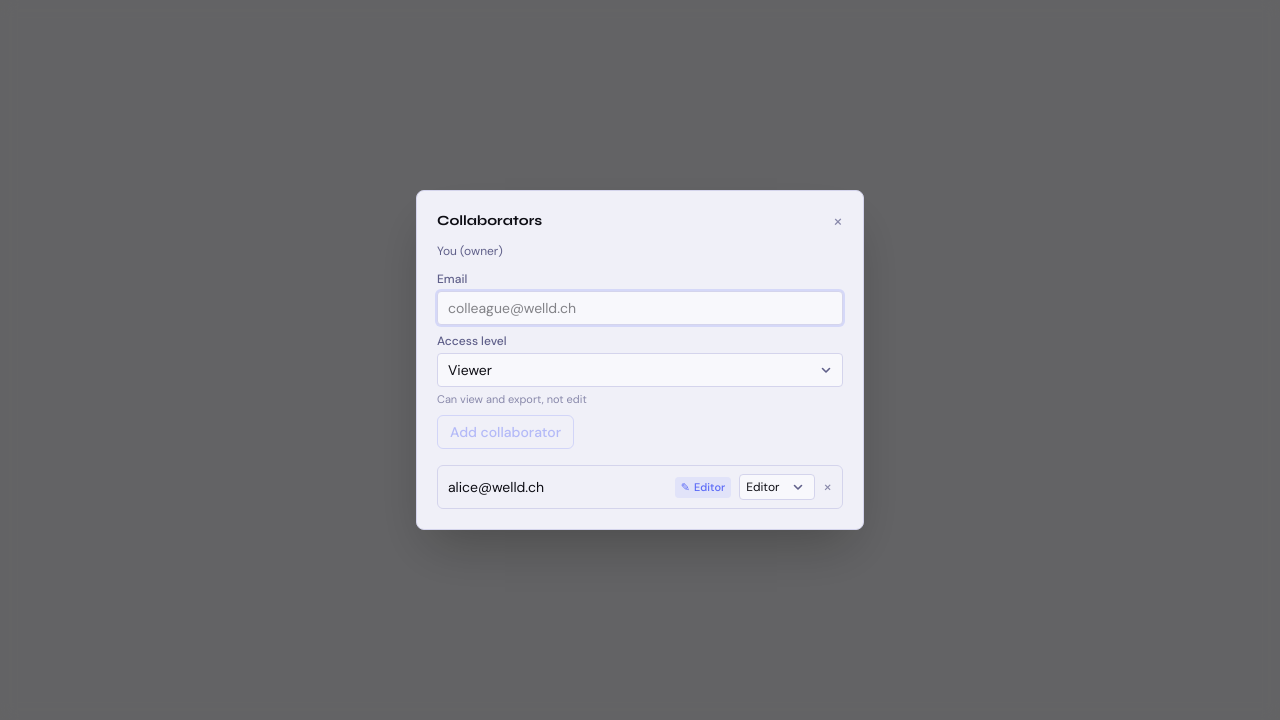
Test: CollaboratorsDialog — owner mode (T20, specs/013) › a11y — default focus + Tab trap + Escape › Escape closes only the nested Remove-confirm layer first, leaving the dialog open
The image size is (1280, 720).
Expected: the text "alice@welld.ch" is shown, 448,478 -> 544,496
Click the button "×" in the row of "alice@welld.ch".
click(828, 487)  # box 823,479 -> 832,495
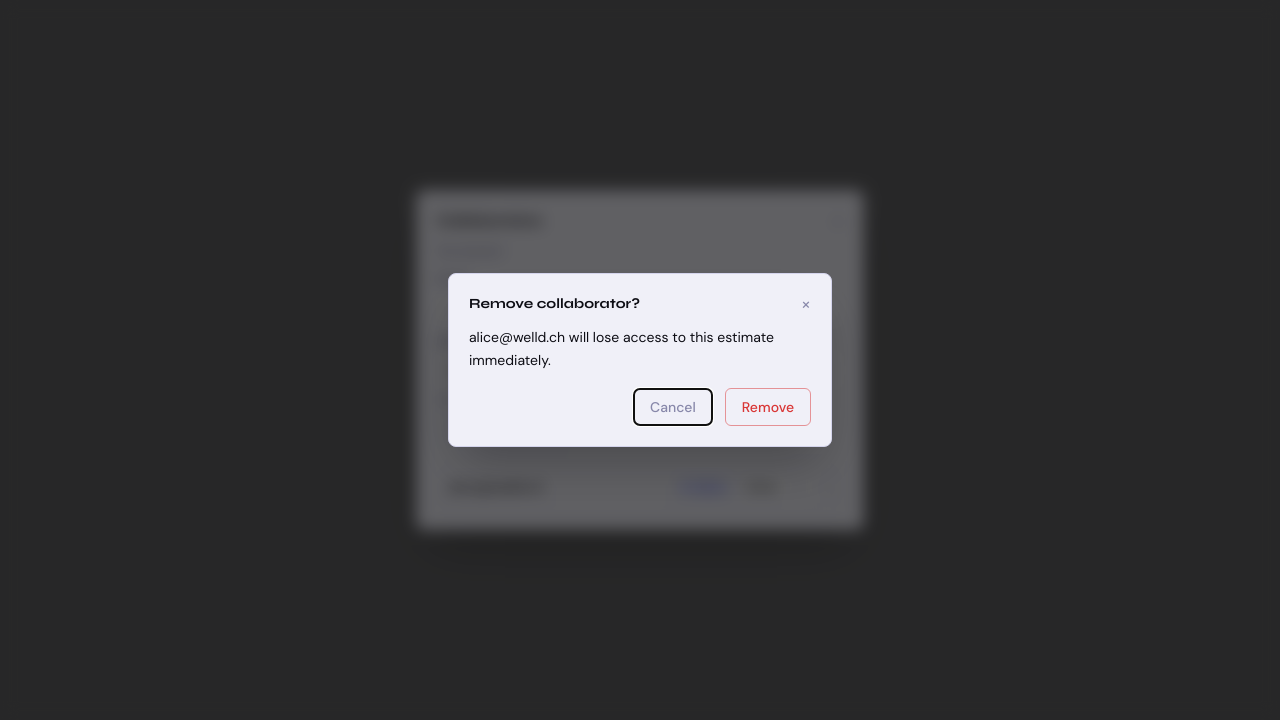
Expected: the element with test id "confirm-delete-modal" is shown
Press Escape
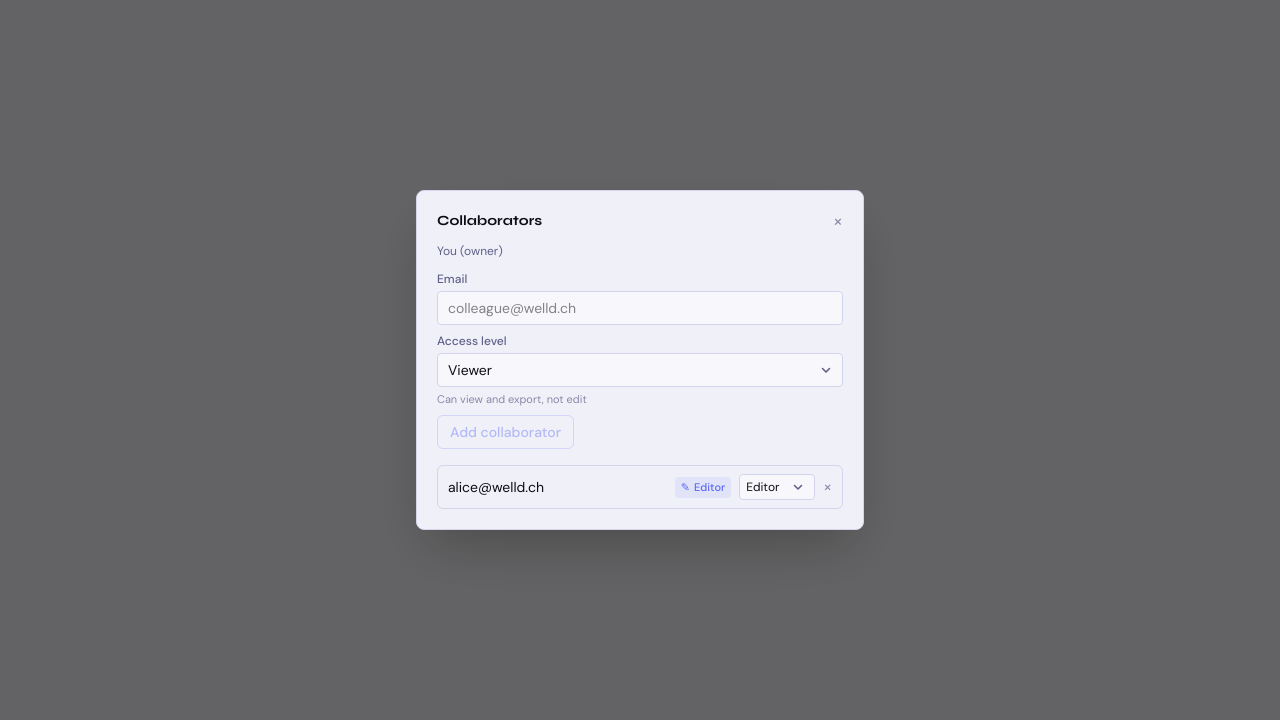
Expected: the dialog with test id "collaborators-dialog" is shown, 416,190 -> 864,530
Expected: the element with test id "confirm-delete-modal" is gone
